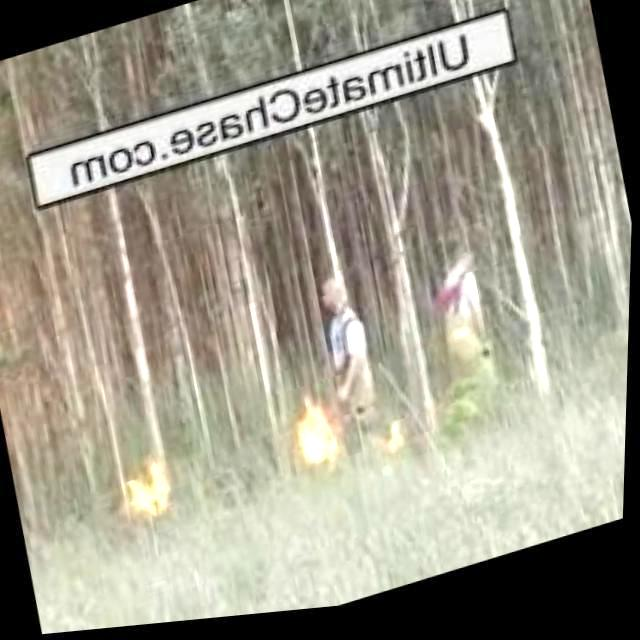fire: (118, 450, 182, 530), (292, 396, 344, 484), (382, 420, 418, 470)
